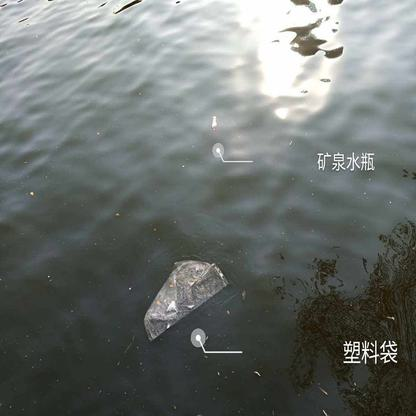plastic bag: (143, 258, 229, 341)
plastic bottle: (210, 114, 221, 130)
